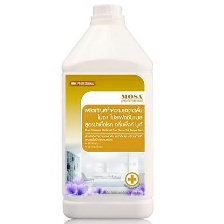cleaning_solution: (58, 2, 157, 221)
